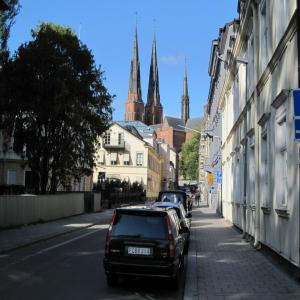Vehicle-registration-plate: (129, 248, 151, 256)
